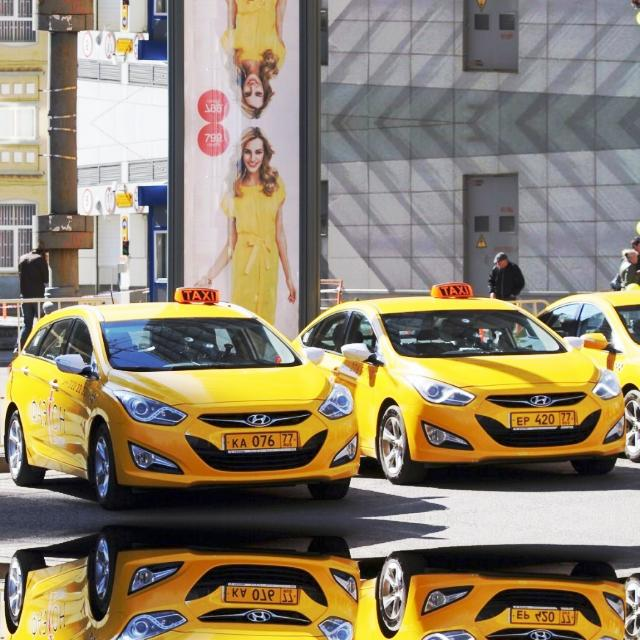taxi: (218, 425, 302, 455), (218, 580, 302, 610), (506, 407, 578, 431), (506, 604, 578, 628)
